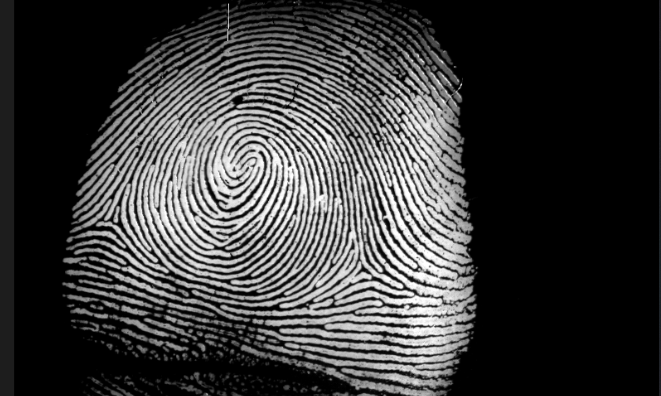deltas: (83, 189, 136, 246), (338, 239, 389, 293)
nucleo: (219, 137, 275, 196)
